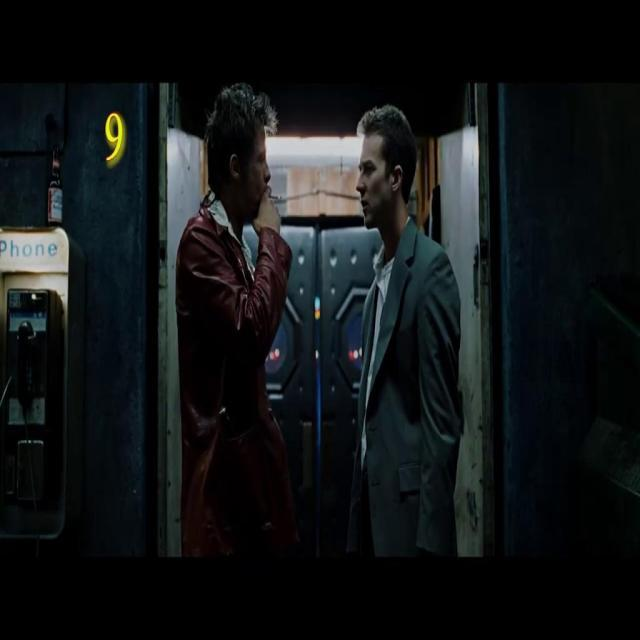smoking: (270, 193, 284, 201)
